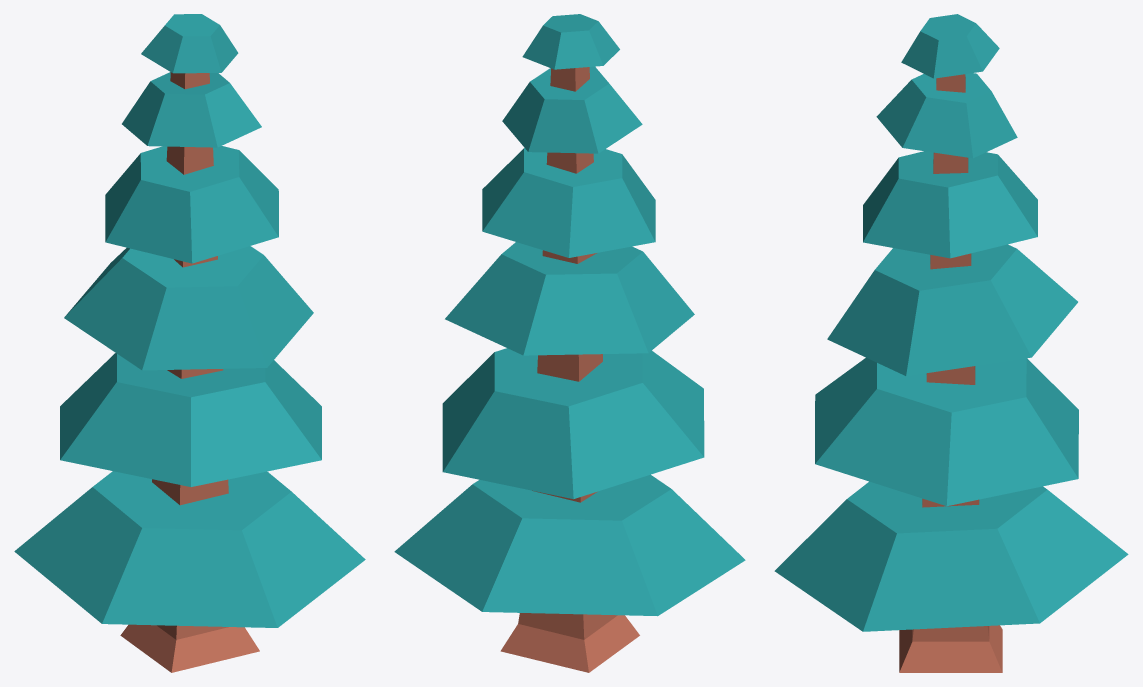
Rendered from tree_pineRoundB.obj.
3 views of the same model, side by side, from view 1: azimuth 30°, elevation 25°; view 2: azimuth 150°, elevation 25°; view 3: azimuth 270°, elevation 25° (orthographic).
Parts seen in each view (by area): view 1: tree_pineRoundB; view 2: tree_pineRoundB; view 3: tree_pineRoundB.
Boxes of the visible parts, x1,y1,x2,y2 form: tree_pineRoundB: (14, 14, 365, 672); tree_pineRoundB: (394, 14, 745, 672); tree_pineRoundB: (774, 14, 1128, 672).
Size of the model in its own units: 0.5322 by 1.2 by 0.6132.
